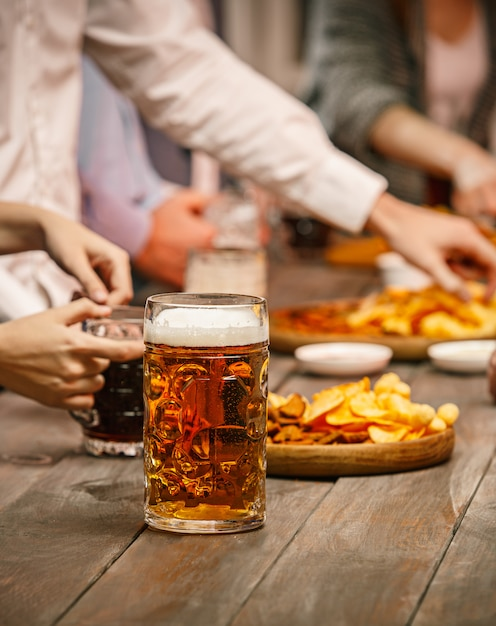alcohol: (81, 295, 267, 536), (68, 319, 176, 461)
